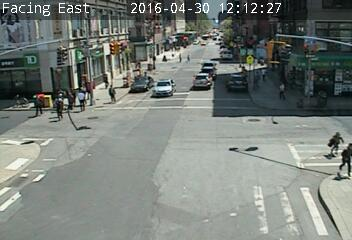neg: (2, 14, 25, 45), (252, 149, 270, 173), (233, 141, 251, 165), (70, 50, 88, 74), (326, 172, 344, 195), (263, 111, 280, 133), (290, 161, 306, 183), (303, 37, 319, 58), (22, 135, 36, 154), (26, 54, 40, 72), (205, 105, 218, 123), (88, 43, 101, 61), (144, 57, 156, 73), (158, 48, 170, 63), (87, 68, 99, 83), (91, 100, 101, 114), (319, 151, 329, 165), (139, 68, 149, 81), (101, 51, 111, 64)
pos: (323, 128, 348, 161), (333, 139, 351, 181), (46, 93, 68, 122), (27, 93, 46, 119), (274, 79, 292, 103), (71, 88, 89, 112), (102, 83, 120, 106), (63, 88, 79, 109), (258, 66, 271, 84), (182, 51, 194, 67), (174, 49, 186, 65)
